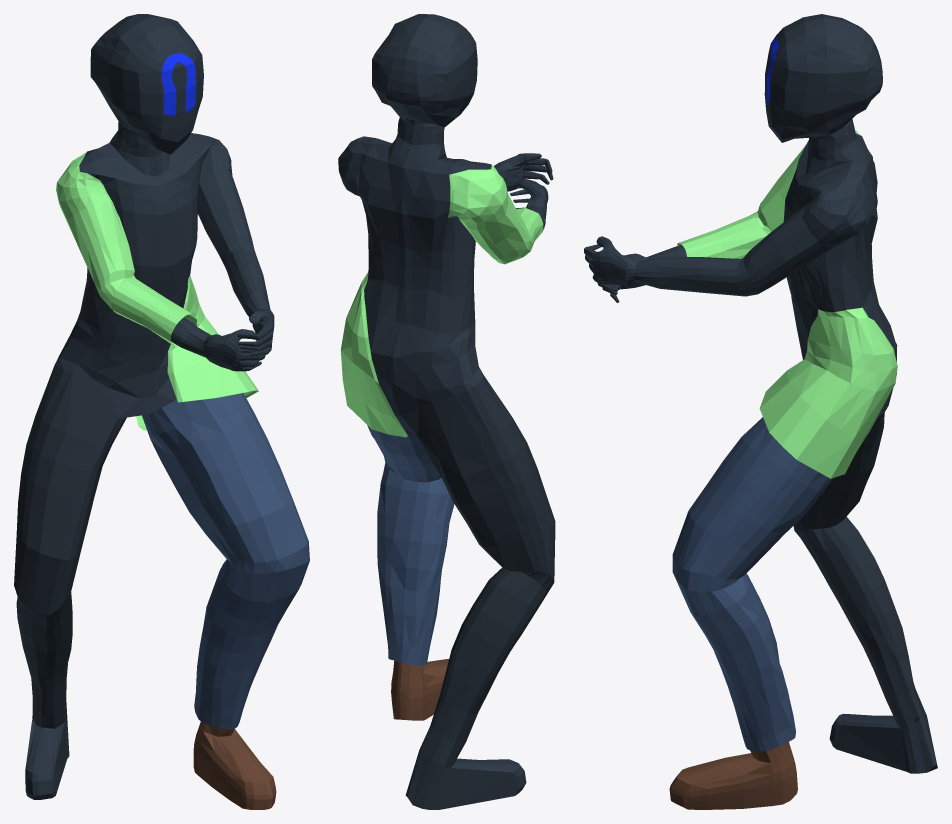
The model's file is Mar_WF_000025.obj.
3 views of the same model, side by side, from view 1: azimuth 30°, elevation 25°; view 2: azimuth 150°, elevation 25°; view 3: azimuth 270°, elevation 25° (orthographic). The views are drawn at different scales.
Visible parts, largest first — view 1: Cube.000_Cube.001; view 2: Cube.000_Cube.001; view 3: Cube.000_Cube.001.
Part boxes in pixels (box(x1,y1,x2,y2)): Cube.000_Cube.001: box(14, 14, 309, 809); Cube.000_Cube.001: box(338, 14, 555, 809); Cube.000_Cube.001: box(584, 14, 937, 809).
Size of the model in its own units: 1.15 by 3.69 by 1.52.
